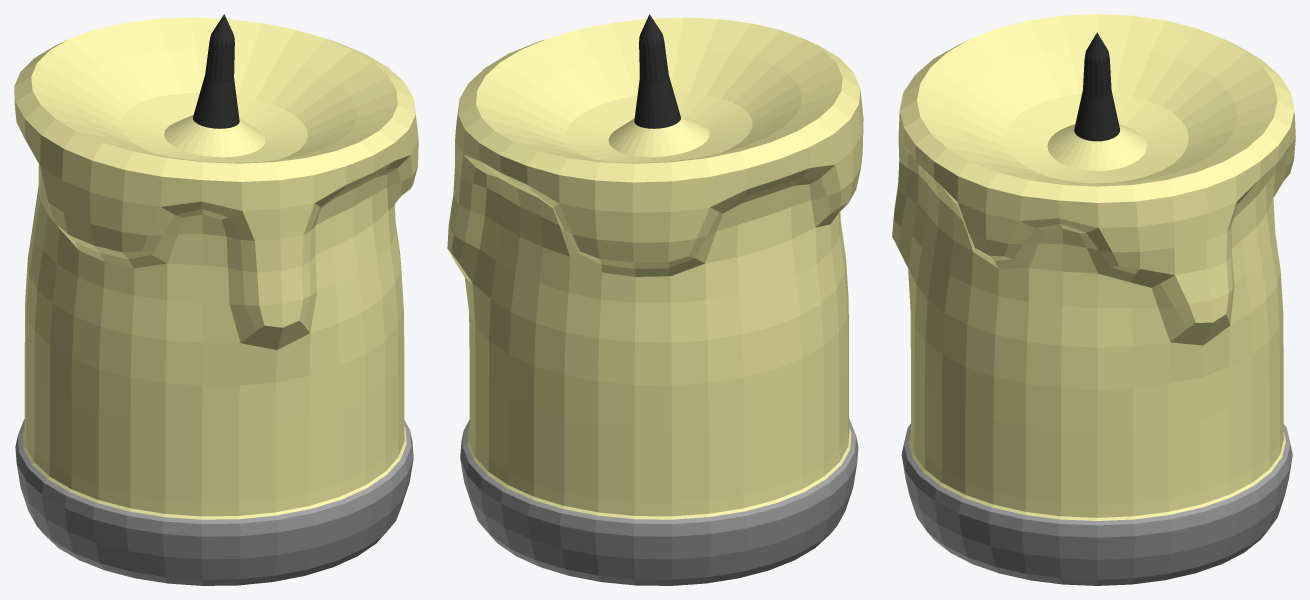
File: candle.fbx
3 renders of one model, left to right at view 1: azimuth 30°, elevation 25°; view 2: azimuth 150°, elevation 25°; view 3: azimuth 270°, elevation 25°, orthographic. The views are drawn at different scales.
Parts seen in each view (by area): view 1: Cylinder; view 2: Cylinder; view 3: Cylinder.
Part boxes in pixels (bbox=[...]): Cylinder: bbox=[14, 14, 418, 585]; Cylinder: bbox=[447, 14, 863, 585]; Cylinder: bbox=[892, 14, 1295, 585].
Bounding box in the file's own units: 229 × 308 × 233.
